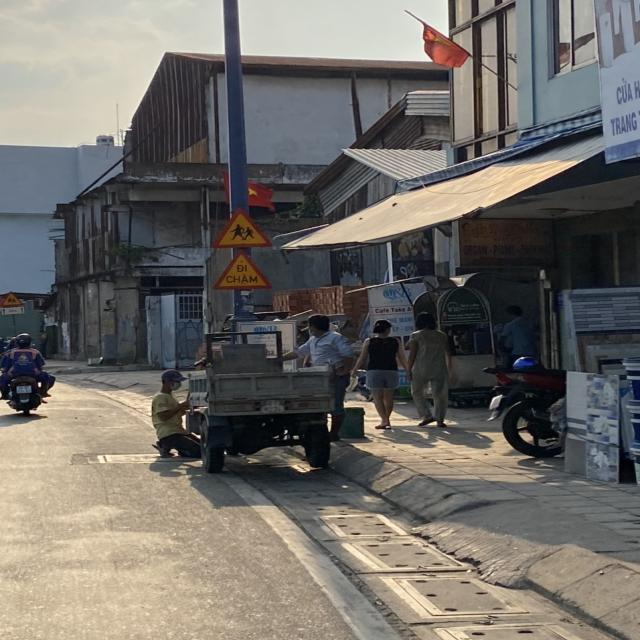bien_nguy_hiem: (209, 253, 272, 290), (211, 207, 267, 248)
